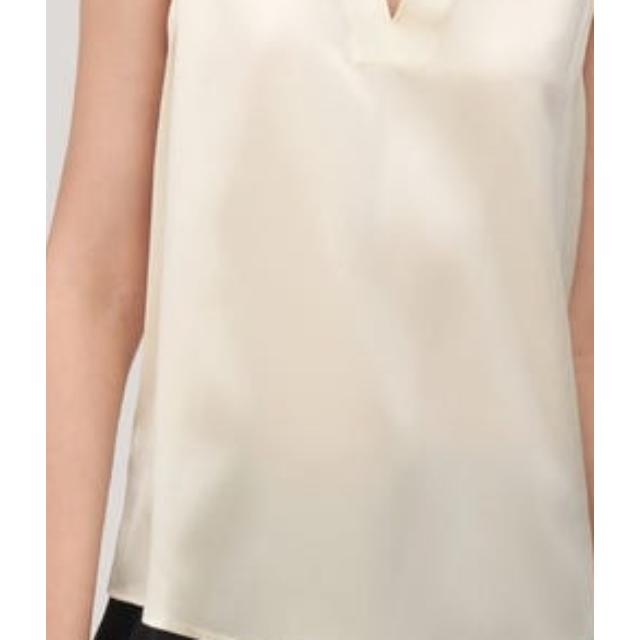silk: (130, 0, 594, 640)
